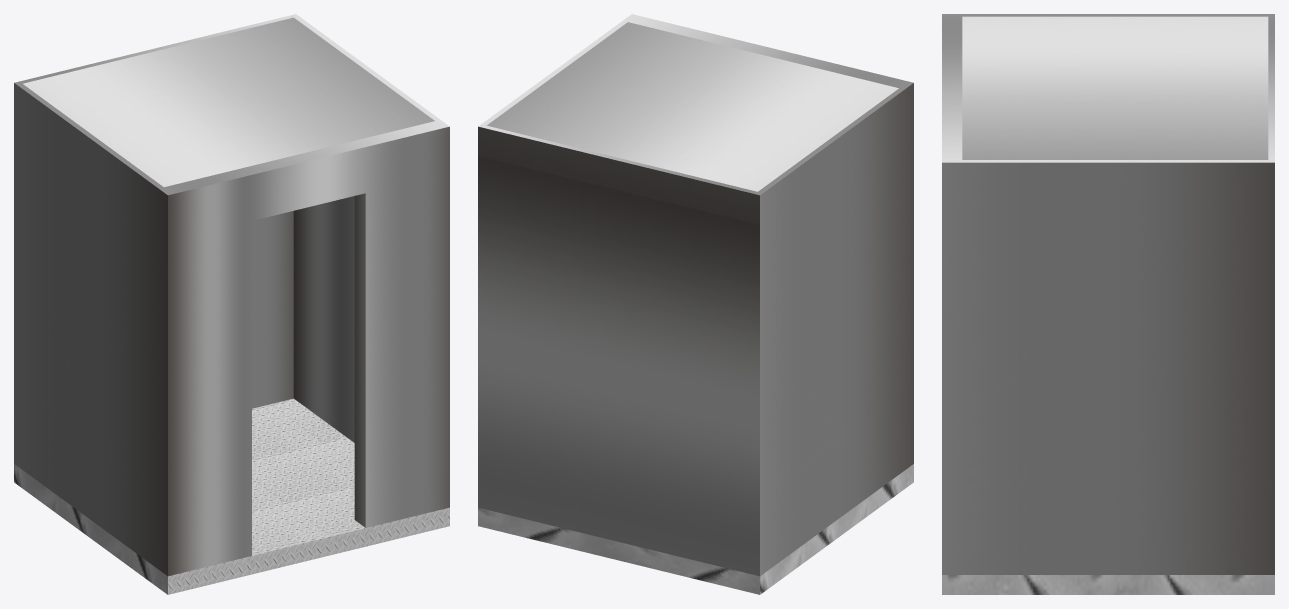
File: Tardis.FBX
3 views of the same model, side by side, from view 1: azimuth 30°, elevation 25°; view 2: azimuth 150°, elevation 25°; view 3: azimuth 270°, elevation 25° (orthographic). The views are drawn at different scales.
Visible parts, largest first — view 1: Elevator; view 2: Elevator; view 3: Elevator.
Boxes of the visible parts, box(x1,y1,x2,y2) form: Elevator: box(14, 14, 449, 594); Elevator: box(478, 14, 913, 594); Elevator: box(942, 14, 1274, 594).
Size of the model in its own units: 159 by 215 by 150.
Materials: 5 (5 with a texture image).
